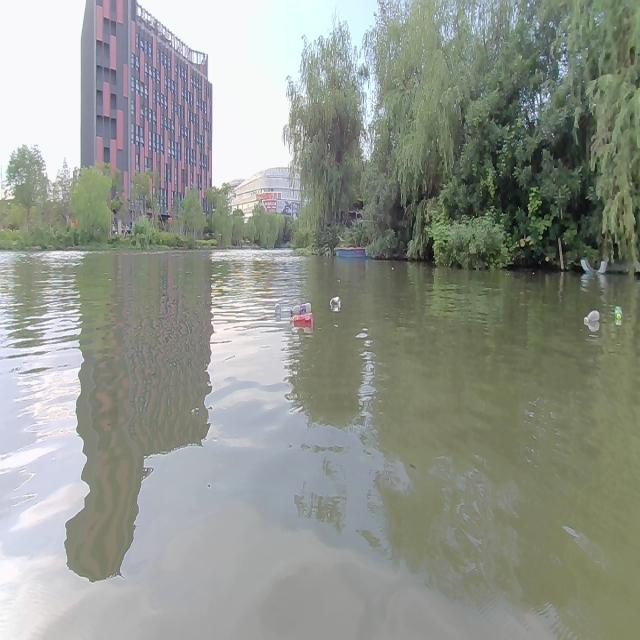bottle: (582, 301, 602, 331), (289, 313, 313, 326), (290, 302, 310, 316), (328, 294, 340, 308), (613, 303, 621, 322), (273, 301, 281, 319)
